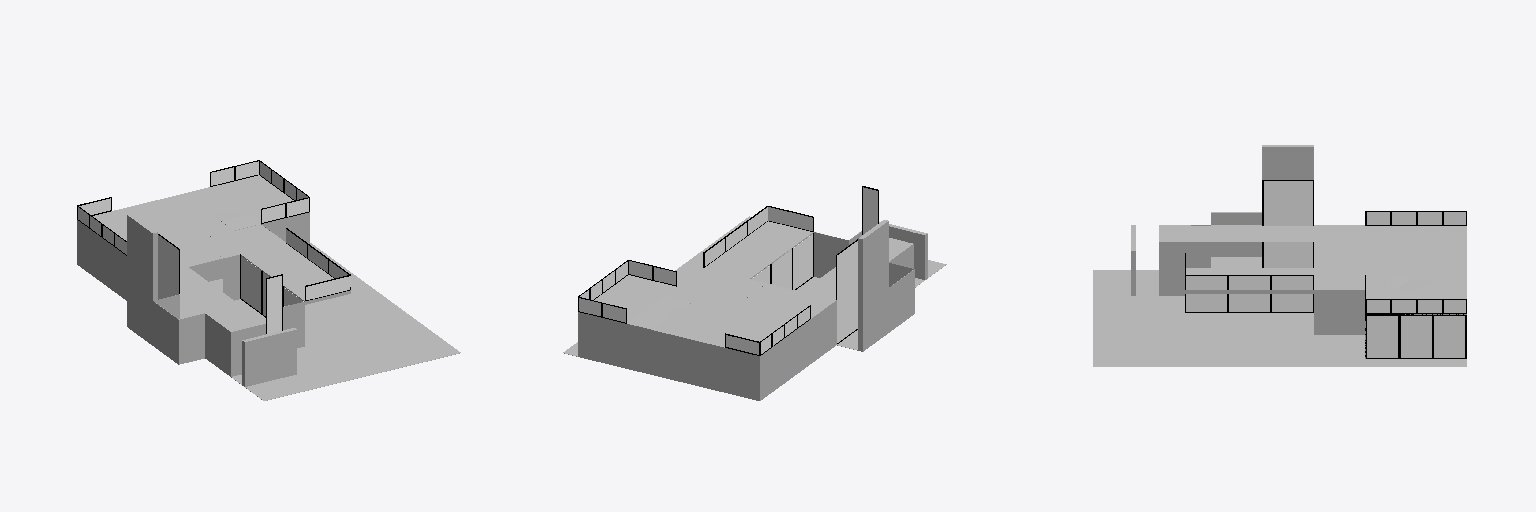
Rendered from modern_house_open_2.obj.
3 renders of one model, left to right at view 1: azimuth 30°, elevation 25°; view 2: azimuth 150°, elevation 25°; view 3: azimuth 270°, elevation 25°, orthographic.
Parts seen in each view (by area): view 1: Plane, Plane.030, Plane.036, Plane.071, Plane.068, Plane.004, Plane.069, Plane.073, Plane.051, Plane.005, Plane.008, Plane.070; view 2: Plane, Plane.036, Plane.071, Plane.051, Plane.004, Plane.068, Plane.069, Plane.030, Plane.070, Plane.007, Plane.006, Plane.008; view 3: Plane.030, Plane, Plane.051, Plane.068, Plane.071, Plane.004, Plane.036, Plane.069, Plane.073, Plane.010, Plane.011, Plane.012 (+5 smaller).
Boxes of the visible parts, <box> form: Plane: <box>77,175,350,386</box>; Plane.030: <box>231,243,460,400</box>; Plane.036: <box>127,214,157,345</box>; Plane.071: <box>113,194,233,244</box>; Plane.068: <box>180,261,265,331</box>; Plane.004: <box>286,228,350,300</box>; Plane.069: <box>198,224,285,257</box>; Plane.073: <box>297,347,349,388</box>; Plane.051: <box>158,235,178,299</box>; Plane.005: <box>241,256,260,312</box>; Plane.008: <box>267,276,281,333</box>; Plane.070: <box>175,240,222,266</box>; Plane: <box>578,221,927,400</box>; Plane.036: <box>858,220,888,351</box>; Plane.071: <box>655,293,774,347</box>; Plane.051: <box>837,241,857,342</box>; Plane.004: <box>703,206,813,267</box>; Plane.068: <box>776,238,912,318</box>; Plane.069: <box>678,268,766,301</box>; Plane.030: <box>563,216,946,374</box>; Plane.070: <box>742,284,800,310</box>; Plane.007: <box>793,234,812,289</box>; Plane.006: <box>772,250,791,288</box>; Plane.008: <box>863,187,877,234</box>; Plane.030: <box>1093,270,1466,366</box>; Plane: <box>1131,212,1466,358</box>; Plane.051: <box>1264,181,1312,267</box>; Plane.068: <box>1159,225,1364,241</box>; Plane.071: <box>1365,242,1466,276</box>; Plane.004: <box>1185,253,1313,289</box>; Plane.036: <box>1262,145,1313,179</box>; Plane.069: <box>1314,259,1364,289</box>; Plane.073: <box>1093,296,1184,312</box>; Plane.010: <box>1367,316,1397,357</box>; Plane.011: <box>1401,316,1431,357</box>; Plane.012: <box>1434,316,1464,357</box>.
Bounding box in the file's own units: 9.6 × 4.6 × 13.86.